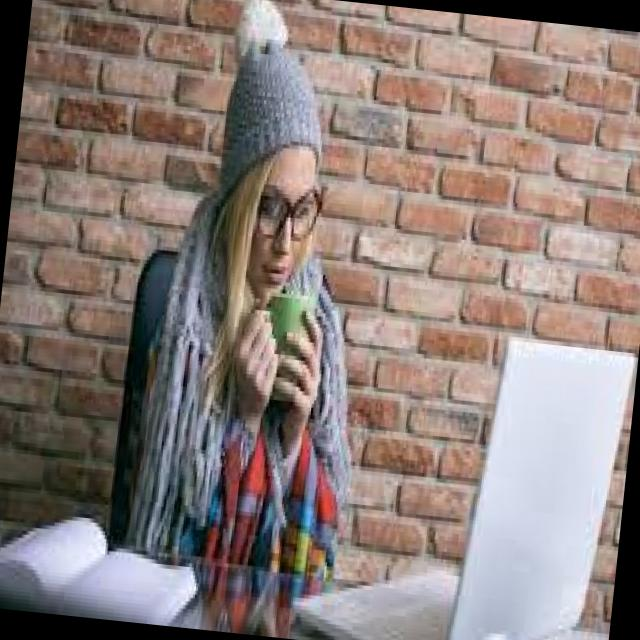Jacket: (136, 247, 330, 638)
